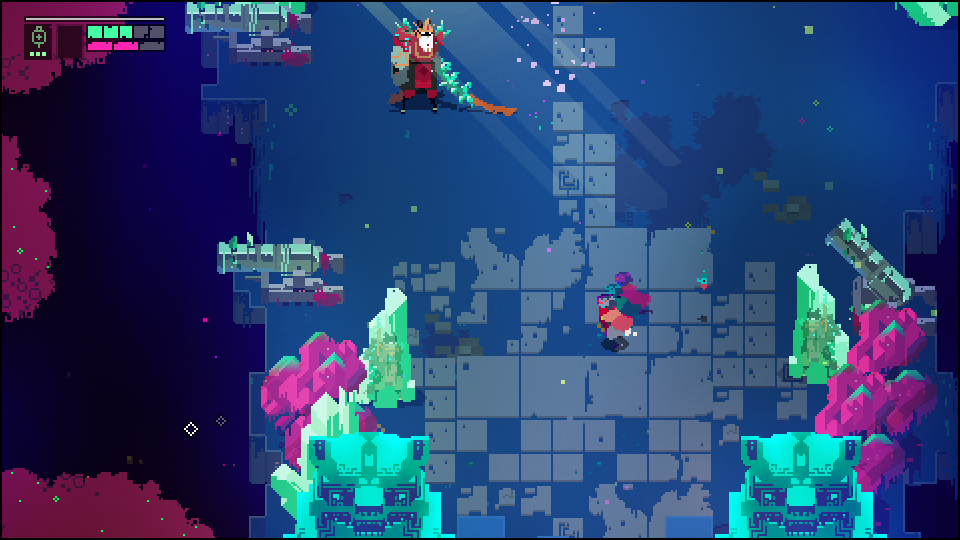hanged_man: (391, 17, 478, 115)
player: (599, 299, 632, 344)
